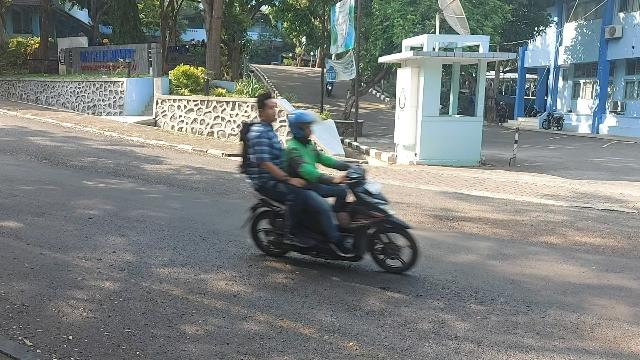helm: (289, 111, 319, 140)
motor: (241, 162, 420, 274)
non-helm: (259, 92, 277, 123)
